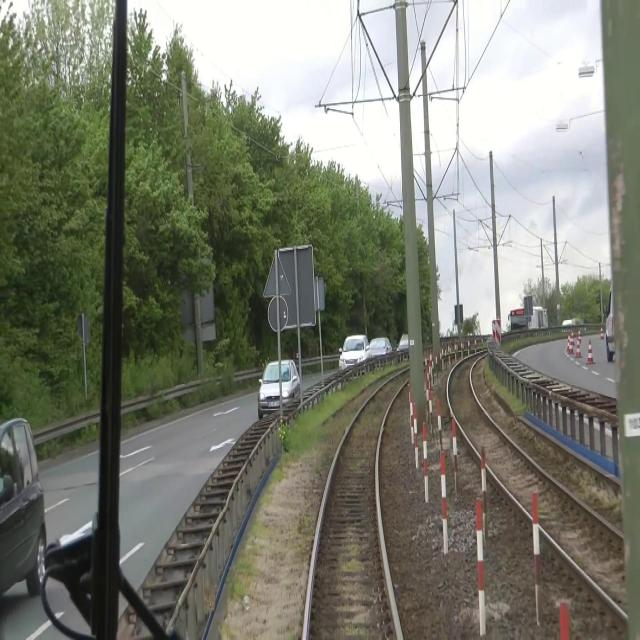rail-track: (449, 356, 640, 623), (306, 372, 409, 639)
